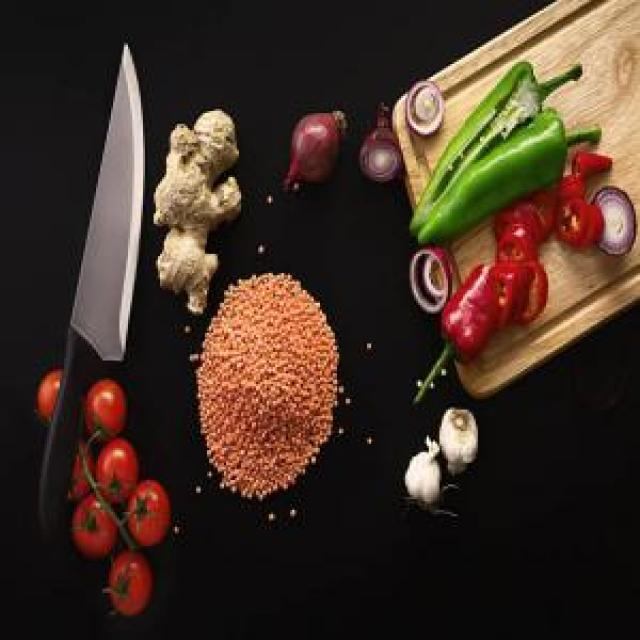knife: (30, 32, 148, 554)
